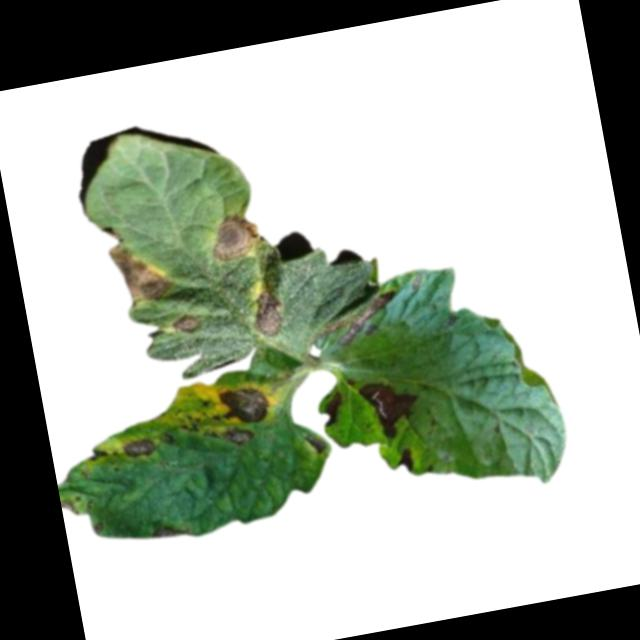Early_blight: (313, 288, 402, 351), (102, 238, 173, 310), (355, 372, 425, 445), (205, 210, 268, 266), (216, 381, 272, 428), (247, 286, 289, 343), (319, 390, 347, 428), (146, 521, 192, 544), (223, 423, 256, 452), (167, 310, 200, 338), (123, 436, 157, 460), (393, 448, 415, 474), (87, 445, 108, 466)
